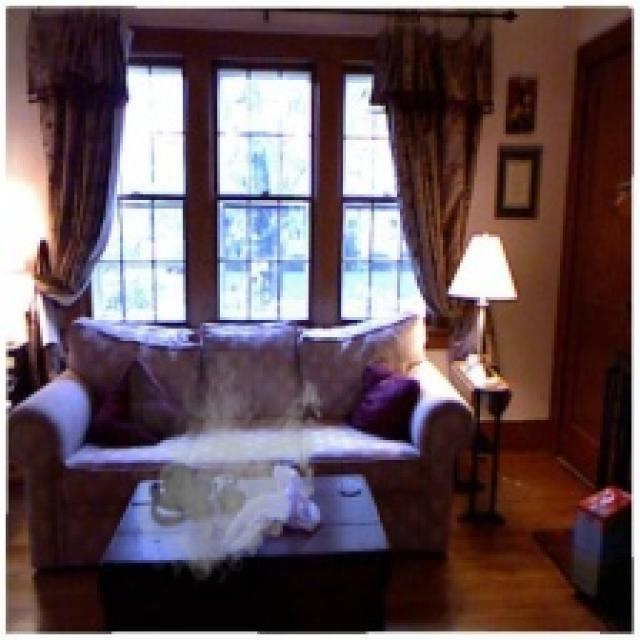Smoke: (128, 352, 328, 588)
